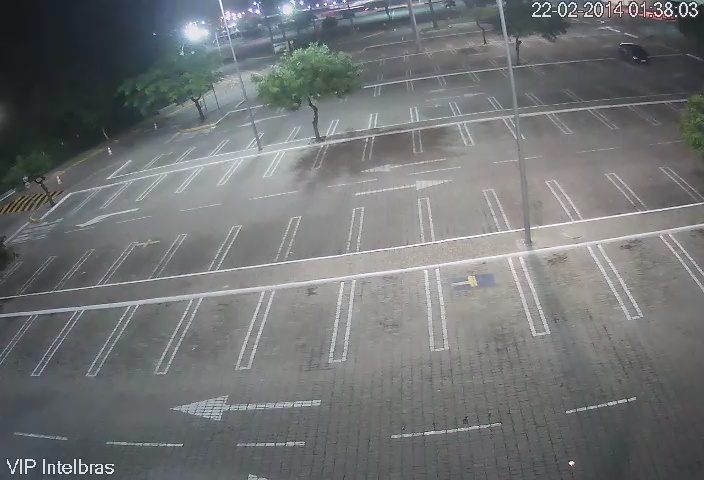lot: (428, 258, 534, 344), (517, 247, 620, 324), (346, 270, 439, 354), (600, 240, 699, 314), (182, 283, 254, 374), (267, 276, 339, 361), (126, 294, 182, 379), (555, 175, 645, 222), (354, 195, 431, 248), (15, 311, 70, 385), (67, 301, 117, 378), (421, 195, 507, 237), (617, 168, 702, 208), (496, 186, 571, 230), (289, 206, 354, 256), (228, 223, 297, 268), (595, 101, 658, 139), (118, 233, 173, 276), (74, 240, 116, 294), (168, 233, 225, 271), (507, 113, 562, 152), (461, 117, 524, 147), (550, 104, 611, 134), (414, 124, 473, 153), (230, 152, 284, 182), (366, 133, 422, 161), (38, 252, 72, 297), (320, 140, 370, 170), (279, 146, 326, 176), (190, 166, 230, 198), (84, 183, 121, 216), (117, 176, 154, 207), (55, 191, 89, 223), (153, 170, 191, 198)
